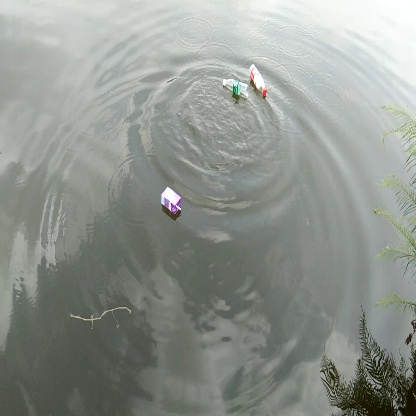bottle: (218, 74, 251, 100), (248, 62, 270, 99)
milk-box: (156, 184, 185, 217)
